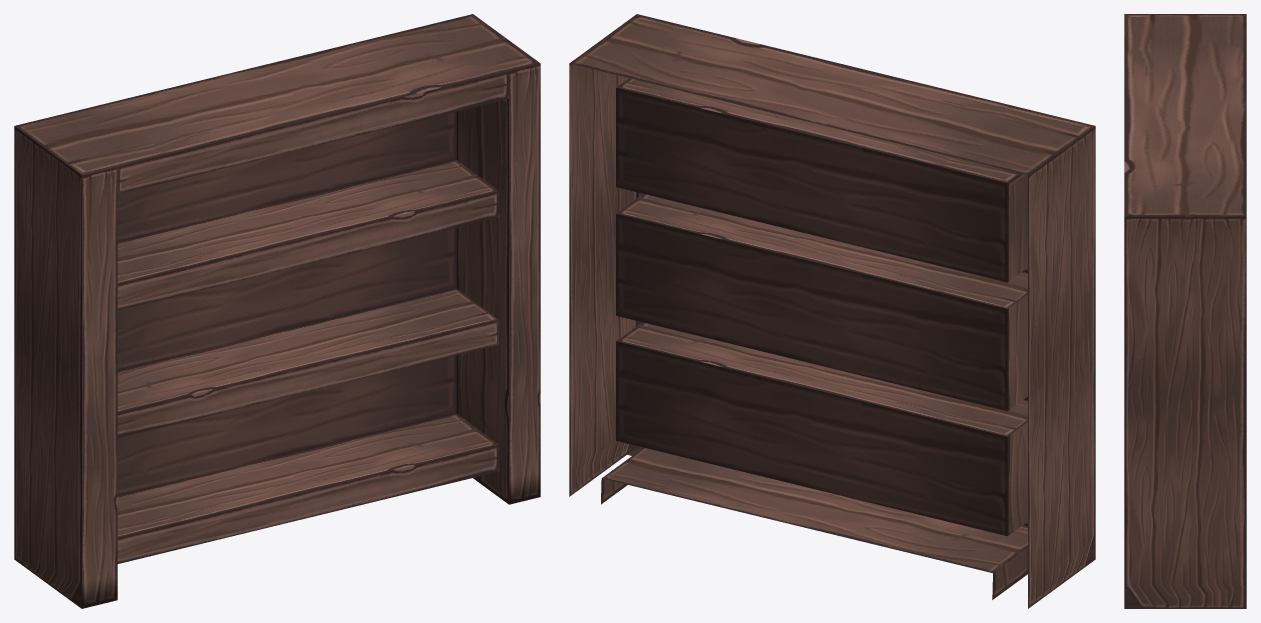
File: Shelf.FBX
The picture shows the model from 3 angles, left to right: view 1: azimuth 30°, elevation 25°; view 2: azimuth 150°, elevation 25°; view 3: azimuth 270°, elevation 25°; orthographic projection. The views are drawn at different scales.
Parts seen in each view (by area): view 1: Object074; view 2: Object074; view 3: Object074.
Part boxes in pixels (<box>): Object074: <box>14,14,540,608</box>; Object074: <box>569,14,1095,608</box>; Object074: <box>1124,14,1246,608</box>.
Bounding box in the file's own units: 231 × 209 × 59.07.
